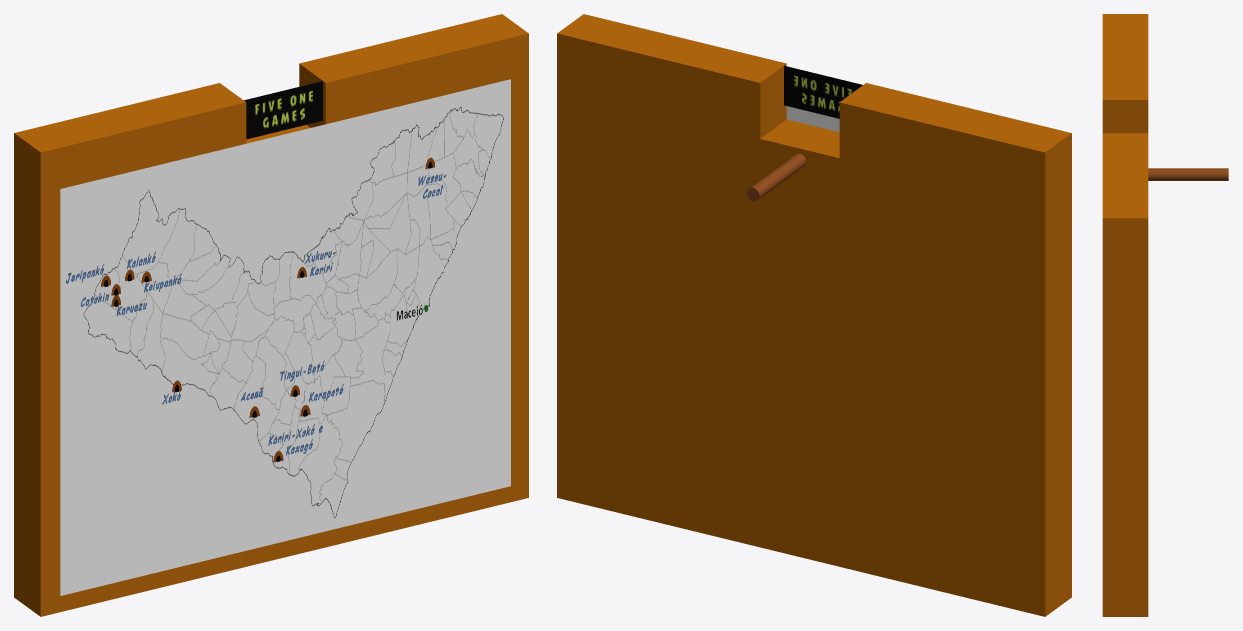
The model's file is quadro_Tribos_Alagoas.fbx.
3 renders of one model, left to right at view 1: azimuth 30°, elevation 25°; view 2: azimuth 150°, elevation 25°; view 3: azimuth 270°, elevation 25°, orthographic. The views are drawn at different scales.
Visible parts, largest first — view 1: Plane.002, Cube, Plane; view 2: Cube, Plane, Cylinder, Plane.002; view 3: Cube, Cylinder.
Part boxes in pixels (x1,y1,x2,y2): Plane.002: [60, 79, 510, 595]; Cube: [14, 14, 528, 616]; Plane: [244, 81, 322, 139]; Cube: [557, 14, 1071, 616]; Plane: [784, 65, 862, 118]; Cylinder: [747, 153, 806, 201]; Plane.002: [786, 106, 839, 132]; Cube: [1102, 14, 1148, 616]; Cylinder: [1148, 168, 1228, 180].
Bounding box in the file's own units: 200 × 182 × 53.02.
